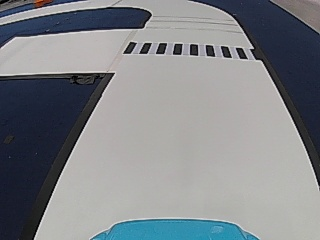CrossWalk: (123, 41, 259, 61)
